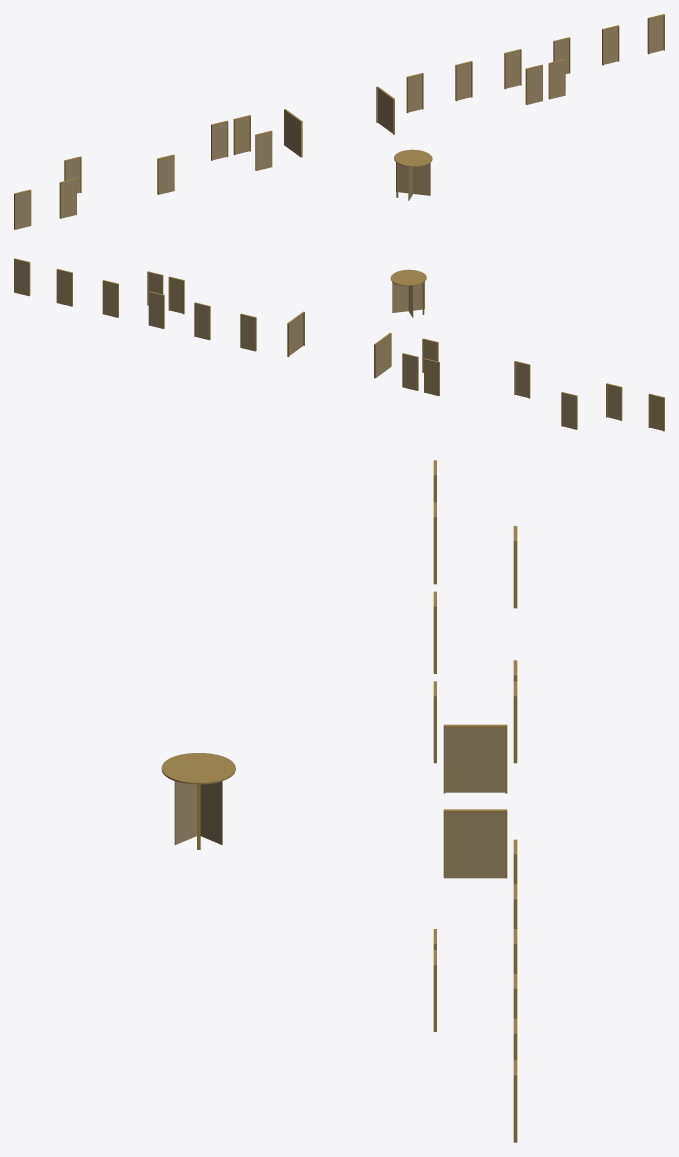
The model's file is 231110AC11-Institute-Var-2-IFC_Erdgeschoss_IfcDoor.dae.
3 views of the same model, one above another, from view 1: azimuth 30°, elevation 25°; view 2: azimuth 150°, elevation 25°; view 3: azimuth 270°, elevation 25° (orthographic). The views are drawn at different scales.
Visible parts, largest first — view 1: 18PQUIFELEARLM4c0brquf, 1_hrYGMATEmeNbEHgfoKxd, 31UFds84f5oAxxal4G6S8P, 2SfY7UTIz1E82rEMOUSWux, 1FCKjvOWnEAv7x1dg2f7BI, 0nixpH$hD2$xLwip3vL96O, 2k6vBG3yn9hRJUYx$GK5vo, 2FYBB$DerEng8G$eISvGgZ, 2d24khq3H2EhLI7osiekrD, 20nncC0vDDp9h64AX6XevC, 3nS8Xe8c5BpfdWxU$cBkvz, 0p1Mt3h7nDeQ1Q4N9eEl9H (+6 smaller); view 2: 18PQUIFELEARLM4c0brquf, 1_hrYGMATEmeNbEHgfoKxd, 31UFds84f5oAxxal4G6S8P, 0p1Mt3h7nDeQ1Q4N9eEl9H, 2ZDRA4lYXAawe3WLk$RpXy, 3nS8Xe8c5BpfdWxU$cBkvz, 2pX0sc7rf06usjFMq1TsGs, 1njbY3IMb4IedX5fLGTCRc, 3c7FFURCHAIuL_Uqfwogkh, 3QI0Za4AD7g9EDuOxKtL4z, 20nncC0vDDp9h64AX6XevC, 0nixpH$hD2$xLwip3vL96O (+6 smaller); view 3: 18PQUIFELEARLM4c0brquf, 31UFds84f5oAxxal4G6S8P, 1_hrYGMATEmeNbEHgfoKxd.
Boxes of the visible parts, <box> form: 18PQUIFELEARLM4c0brquf: <box>394,149,432,200</box>; 1_hrYGMATEmeNbEHgfoKxd: <box>284,109,302,157</box>; 31UFds84f5oAxxal4G6S8P: <box>376,86,394,134</box>; 2SfY7UTIz1E82rEMOUSWux: <box>157,154,174,194</box>; 1FCKjvOWnEAv7x1dg2f7BI: <box>525,64,542,104</box>; 0nixpH$hD2$xLwip3vL96O: <box>59,178,76,218</box>; 2k6vBG3yn9hRJUYx$GK5vo: <box>548,59,565,99</box>; 2FYBB$DerEng8G$eISvGgZ: <box>255,130,272,170</box>; 2d24khq3H2EhLI7osiekrD: <box>14,189,31,229</box>; 20nncC0vDDp9h64AX6XevC: <box>504,49,521,89</box>; 3nS8Xe8c5BpfdWxU$cBkvz: <box>602,25,619,65</box>; 0p1Mt3h7nDeQ1Q4N9eEl9H: <box>647,14,664,54</box>; 18PQUIFELEARLM4c0brquf: <box>390,269,426,317</box>; 1_hrYGMATEmeNbEHgfoKxd: <box>374,333,391,378</box>; 31UFds84f5oAxxal4G6S8P: <box>287,311,304,356</box>; 0p1Mt3h7nDeQ1Q4N9eEl9H: <box>14,258,30,296</box>; 2ZDRA4lYXAawe3WLk$RpXy: <box>240,313,256,351</box>; 3nS8Xe8c5BpfdWxU$cBkvz: <box>56,269,72,306</box>; 2pX0sc7rf06usjFMq1TsGs: <box>561,392,577,429</box>; 1njbY3IMb4IedX5fLGTCRc: <box>402,353,418,390</box>; 3c7FFURCHAIuL_Uqfwogkh: <box>194,302,210,340</box>; 3QI0Za4AD7g9EDuOxKtL4z: <box>102,280,118,317</box>; 20nncC0vDDp9h64AX6XevC: <box>148,291,164,328</box>; 0nixpH$hD2$xLwip3vL96O: <box>606,383,622,420</box>; 18PQUIFELEARLM4c0brquf: <box>161,753,235,849</box>; 31UFds84f5oAxxal4G6S8P: <box>443,809,507,878</box>; 1_hrYGMATEmeNbEHgfoKxd: <box>443,724,507,793</box>.
Bounding box in the file's own units: 41.2 × 10.07 × 2.1.
